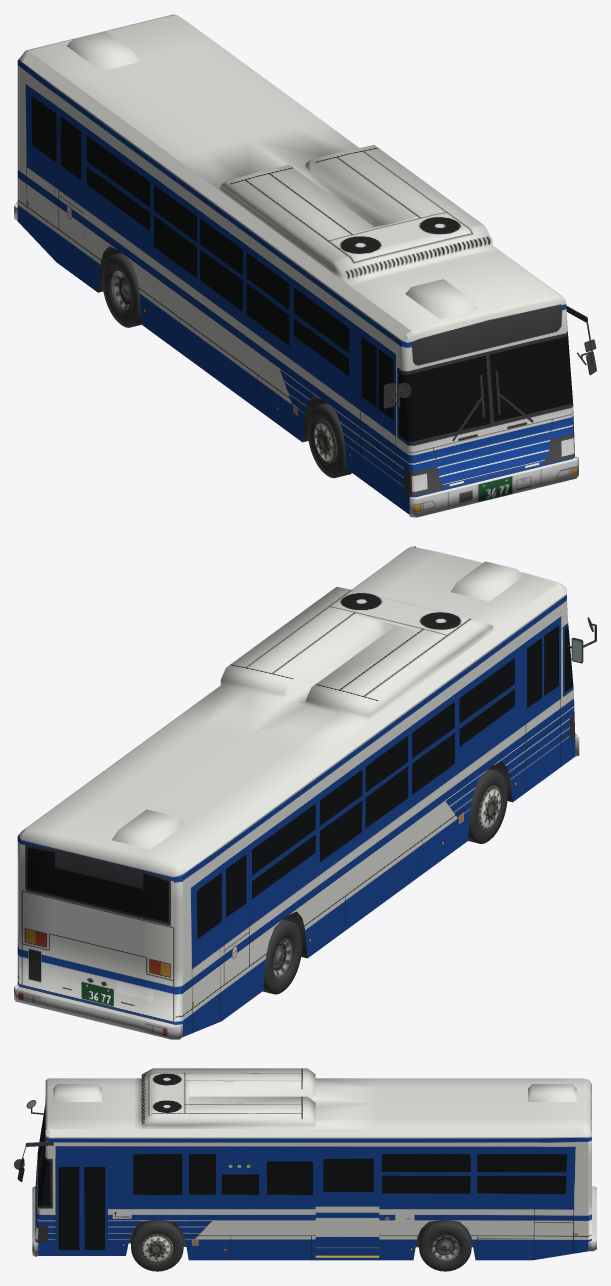
The model's file is buss.fbx.
The picture shows the model from 3 angles, top to bottom: view 1: azimuth 30°, elevation 25°; view 2: azimuth 150°, elevation 25°; view 3: azimuth 270°, elevation 25°; orthographic projection. The views are drawn at different scales.
Visible parts, largest first — view 1: body, t2, t4; view 2: body, t2, t4; view 3: body, t3, t1.
Boxes of the visible parts, <box> form: body: <box>14,14,596,517</box>; t2: <box>307,403,351,478</box>; t4: <box>102,252,141,327</box>; body: <box>14,546,596,1039</box>; t2: <box>468,769,507,843</box>; t4: <box>263,919,302,994</box>; body: <box>14,1068,596,1260</box>; t3: <box>419,1219,471,1271</box>; t1: <box>131,1219,183,1271</box>.
Bounding box in the file's own units: 290 × 311 × 1088.
Materials: 1 (1 with a texture image).
